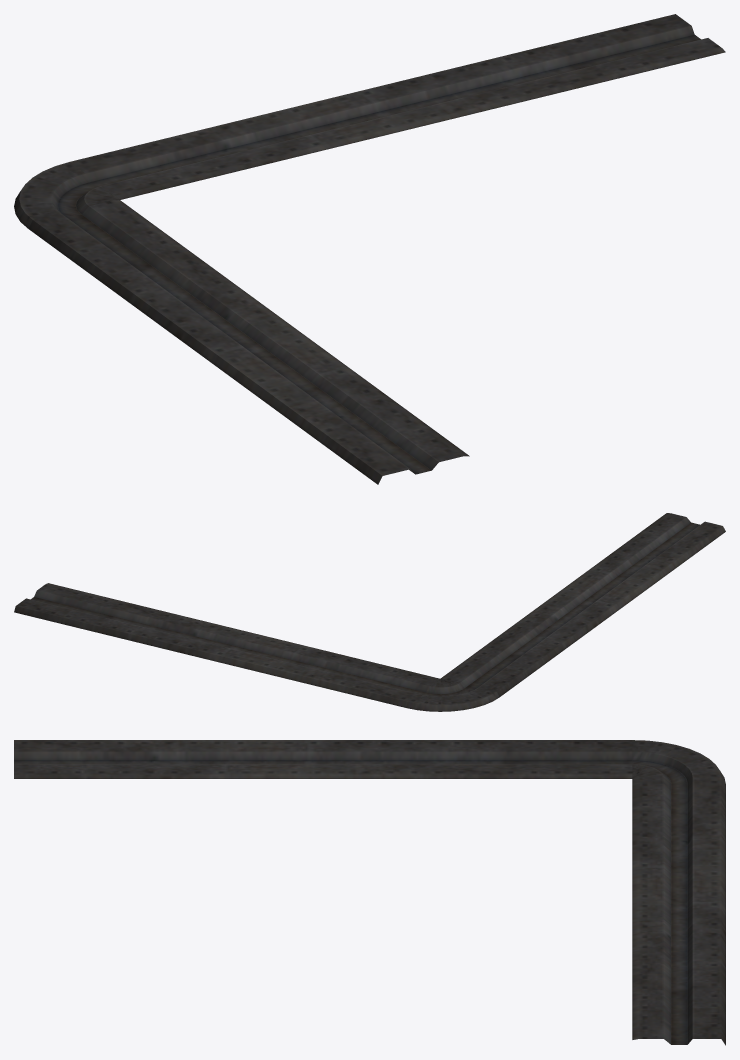
File: lab_floor_welder_convex_noyellow.dae
3 views of the same model, one above another, from view 1: azimuth 30°, elevation 25°; view 2: azimuth 150°, elevation 25°; view 3: azimuth 270°, elevation 25° (orthographic). The views are drawn at different scales.
Parts seen in each view (by area): view 1: floor_welder_convex_noyellow; view 2: floor_welder_convex_noyellow; view 3: floor_welder_convex_noyellow.
Boxes of the visible parts, bbox=[...] form: floor_welder_convex_noyellow: bbox=[14, 14, 725, 484]; floor_welder_convex_noyellow: bbox=[14, 513, 725, 711]; floor_welder_convex_noyellow: bbox=[14, 740, 725, 1045].
Size of the model in its own units: 2.38 by 0.0254 by 2.38.
